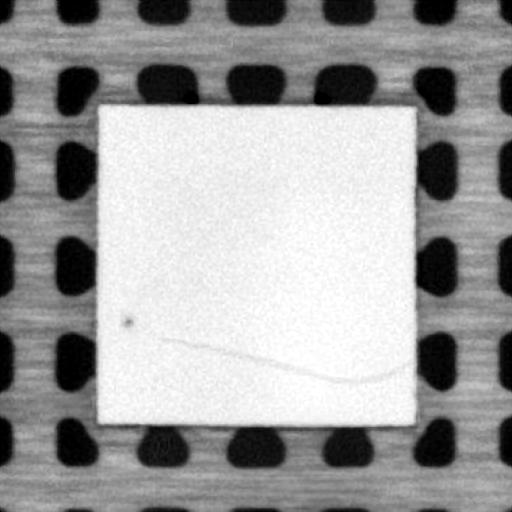DIE_INK: (117, 309, 134, 330)
